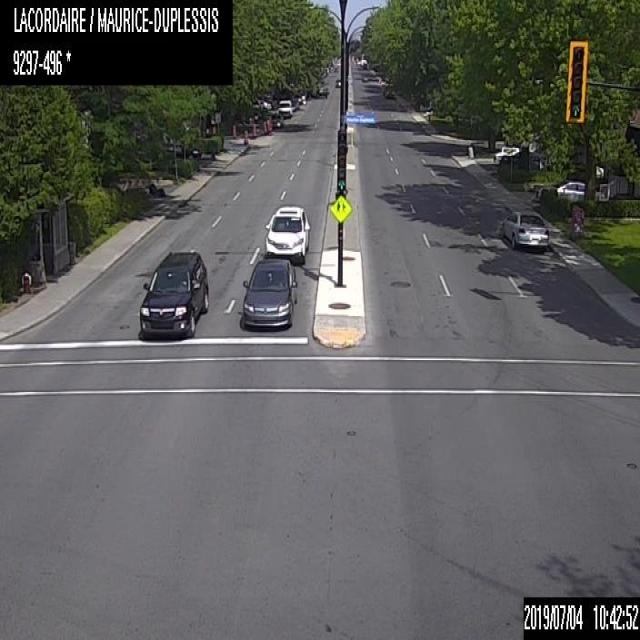construction: (262, 118, 268, 132), (266, 118, 272, 130), (231, 124, 235, 139), (243, 129, 247, 144), (252, 123, 256, 136)
vehicle: (137, 248, 209, 337), (240, 253, 298, 329), (265, 205, 309, 262), (500, 208, 550, 251), (532, 179, 606, 203), (493, 146, 541, 163), (167, 143, 200, 163), (277, 99, 294, 118), (381, 75, 393, 98), (270, 112, 283, 126), (289, 97, 298, 110), (334, 78, 340, 86)
